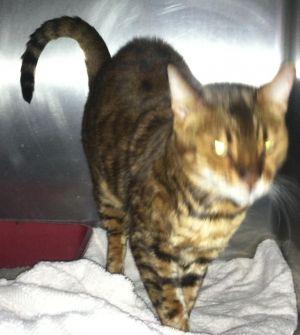bengal: (156, 58, 300, 211)
